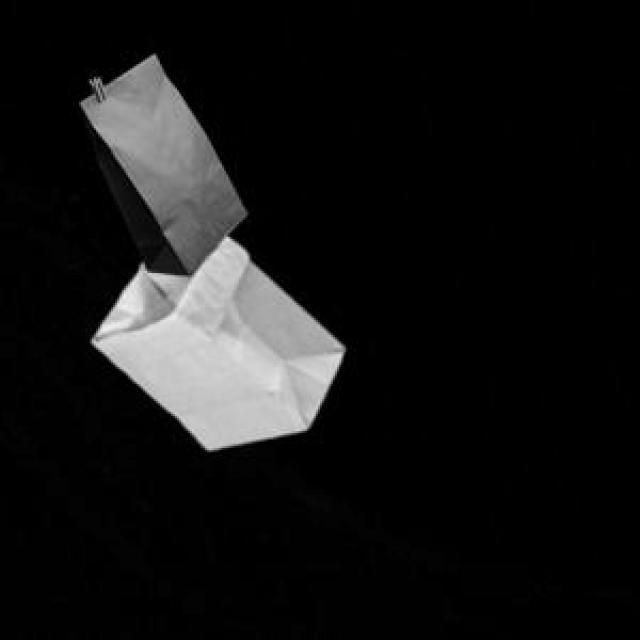paper: (88, 233, 339, 446), (77, 51, 243, 271)
